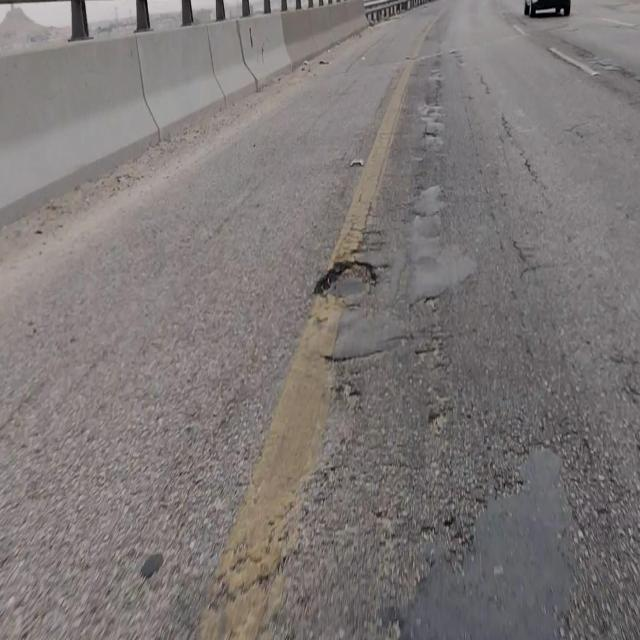Potholes: (311, 256, 379, 300)
